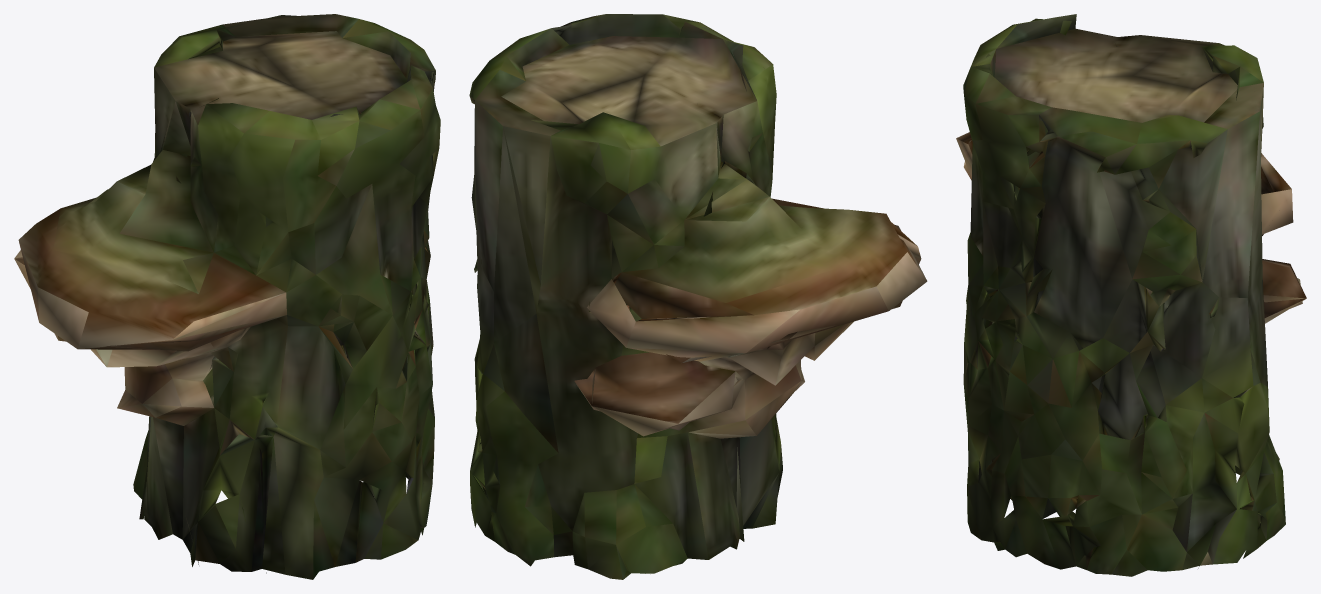
The model's file is cogu_orelha_de_pau.glb.
3 views of the same model, side by side, from view 1: azimuth 30°, elevation 25°; view 2: azimuth 150°, elevation 25°; view 3: azimuth 270°, elevation 25° (orthographic). The views are drawn at different scales.
Parts seen in each view (by area): view 1: geometry_0; view 2: geometry_0; view 3: geometry_0.
Part boxes in pixels (x1,y1,x2,y2): geometry_0: (14, 14, 440, 579); geometry_0: (469, 14, 927, 579); geometry_0: (956, 14, 1306, 576).
Bounding box in the file's own units: 0.8937 × 1 × 0.6815.
Materials: 1 (1 with a texture image).
